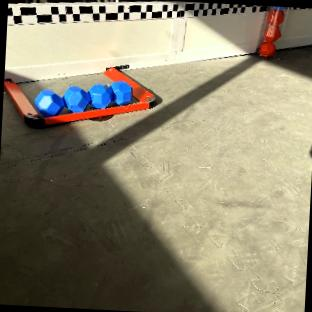V5_BLUE: (34, 90, 63, 115), (64, 87, 88, 112), (88, 84, 111, 108), (111, 80, 132, 105)
V5_RED: (259, 41, 274, 56)
